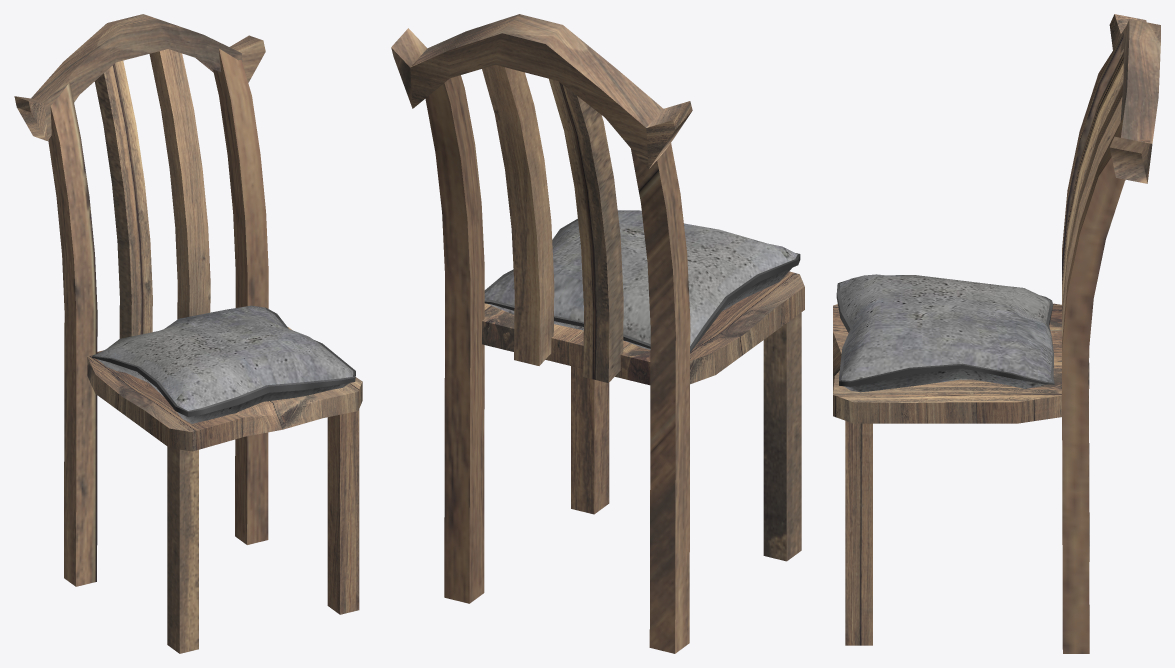
Rendered from Chair_3.fbx.
3 renders of one model, left to right at view 1: azimuth 30°, elevation 25°; view 2: azimuth 150°, elevation 25°; view 3: azimuth 270°, elevation 25°, orthographic. The views are drawn at different scales.
Parts seen in each view (by area): view 1: polySurface21, polySurface18, polySurface20, polySurface17, polySurface13, polySurface19, polySurface14, polySurface16, polySurface15; view 2: polySurface20, polySurface18, polySurface14, polySurface21, polySurface19, polySurface13, polySurface17, polySurface15, polySurface16; view 3: polySurface21, polySurface20, polySurface17, polySurface14, polySurface16, polySurface19, polySurface13, polySurface18.
Boxes of the visible parts, left/top/right/bottom form: polySurface21: left=92, top=305, right=355, bottom=423; polySurface18: left=48, top=82, right=97, bottom=586; polySurface20: left=213, top=48, right=268, bottom=544; polySurface17: left=87, top=327, right=362, bottom=451; polySurface13: left=94, top=60, right=152, bottom=338; polySurface19: left=149, top=49, right=210, bottom=319; polySurface14: left=14, top=14, right=265, bottom=140; polySurface16: left=327, top=409, right=359, bottom=614; polySurface15: left=167, top=446, right=198, bottom=653; polySurface20: left=412, top=59, right=484, bottom=603; polySurface18: left=631, top=143, right=690, bottom=653; polySurface14: left=391, top=14, right=692, bottom=169; polySurface21: left=484, top=210, right=800, bottom=352; polySurface19: left=482, top=65, right=554, bottom=365; polySurface13: left=549, top=79, right=623, bottom=382; polySurface17: left=482, top=271, right=804, bottom=385; polySurface15: left=763, top=312, right=801, bottom=561; polySurface16: left=571, top=366, right=609, bottom=514; polySurface21: left=836, top=274, right=1054, bottom=392; polySurface20: left=1062, top=117, right=1150, bottom=653; polySurface17: left=833, top=303, right=1062, bottom=423; polySurface14: left=1109, top=14, right=1160, bottom=183; polySurface16: left=845, top=420, right=872, bottom=645; polySurface19: left=1062, top=83, right=1123, bottom=388; polySurface13: left=1062, top=52, right=1123, bottom=357; polySurface18: left=1062, top=34, right=1123, bottom=561.
Size of the model in its own units: 433 by 914 by 475.
